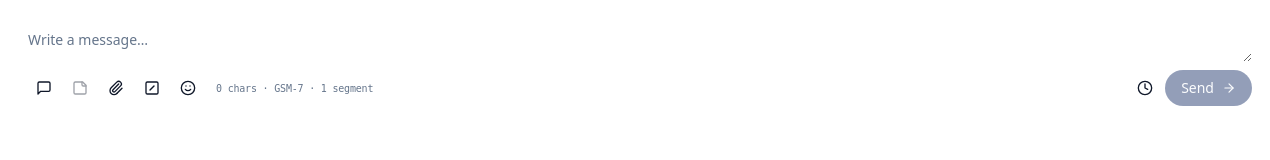
Scenario: Composer P28 messaging › the tracking toggle only exists when the body has a real link
The image size is (1270, 160).
Type "no link here" into the text box labelled "message" at (640, 44), box x1=28 y1=26 x2=1252 y2=62
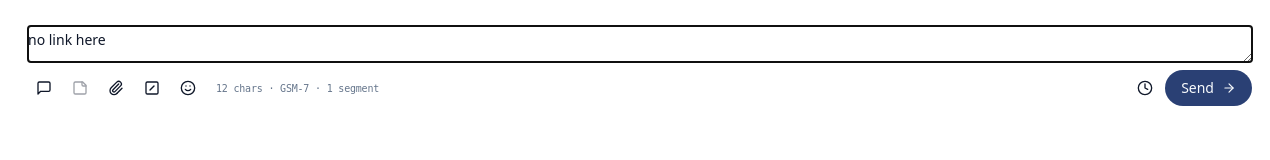
Expected: the checkbox labelled "Track link clicks" is not shown
Replace the text in the text box named "message" with "see example.com" at (640, 44), box x1=28 y1=26 x2=1252 y2=62
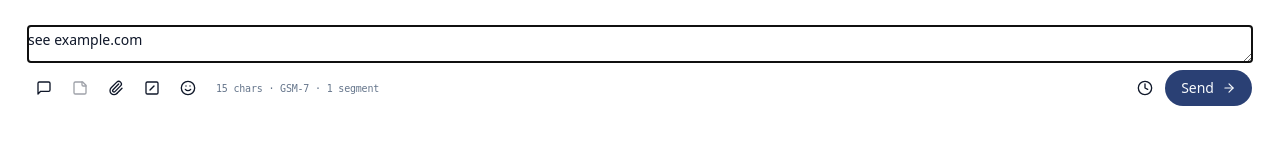
Expected: the checkbox labelled "Track link clicks" is not shown
Replace the text in the text box named "message" with "see https://example.com/x" at (640, 44), box x1=28 y1=26 x2=1252 y2=62
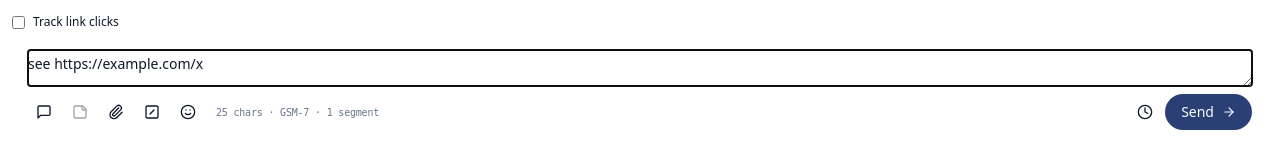
Now the checkbox labelled "Track link clicks" is not checked, box x1=12 y1=16 x2=25 y2=29
